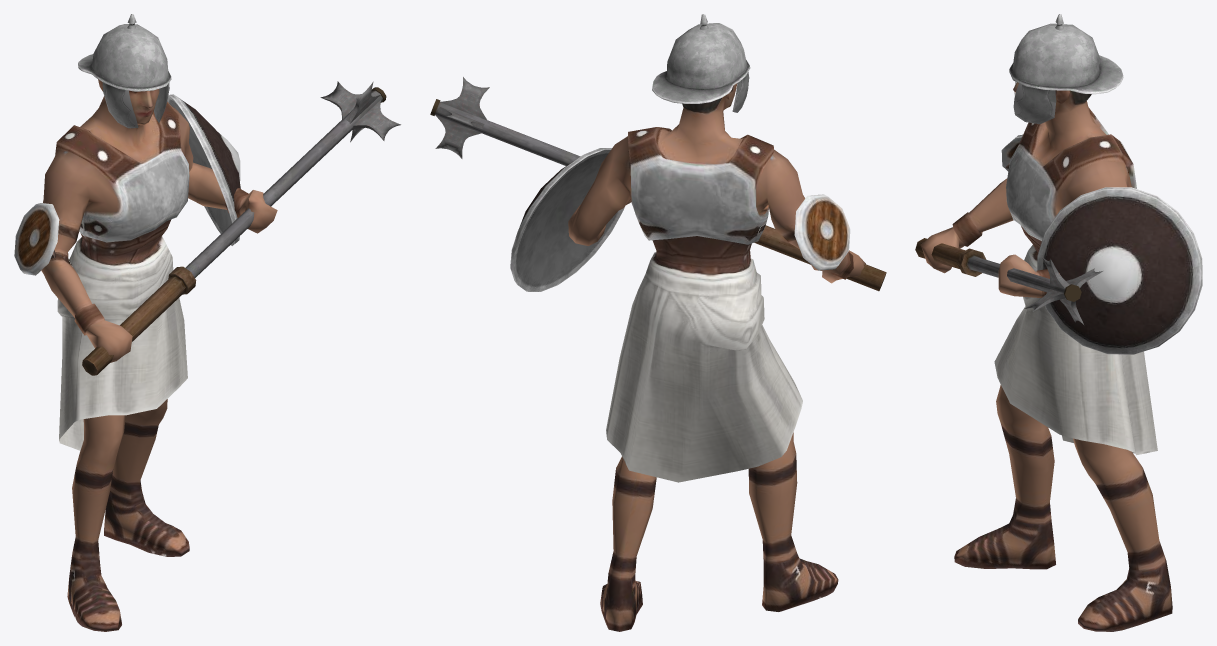
File: 21-katapeltes.glb
The picture shows the model from 3 angles, left to right: view 1: azimuth 30°, elevation 25°; view 2: azimuth 150°, elevation 25°; view 3: azimuth 270°, elevation 25°; orthographic projection. The views are drawn at different scales.
Size of the model in its own units: 1.6 by 2.27 by 1.02.
Materials: 4 (4 with a texture image).
